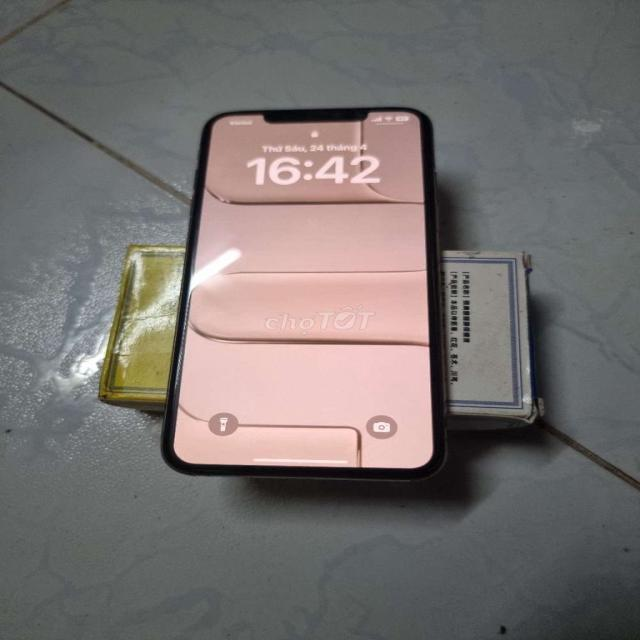gen_x_xs: (170, 104, 447, 489)
